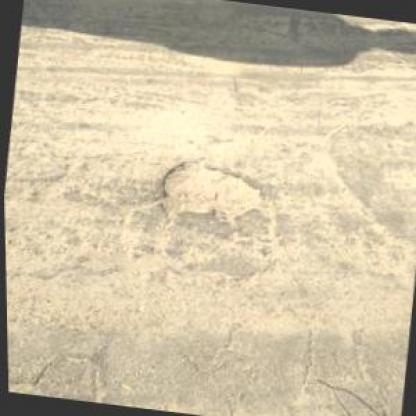pothole: (150, 152, 269, 236)
